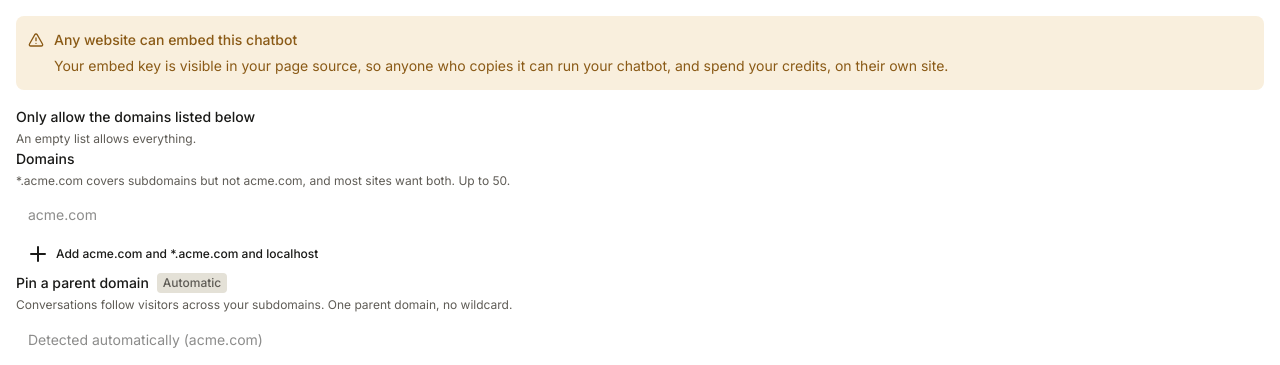
the allow-list › offers the apex and the wildcard together, because www is a subdomain
The image size is (1280, 365).
Step 1. Click the button "Add acme.com and *.acme.com and localhost" → {"x": 172, "y": 254}, box x1=16 y1=240 x2=328 y2=268
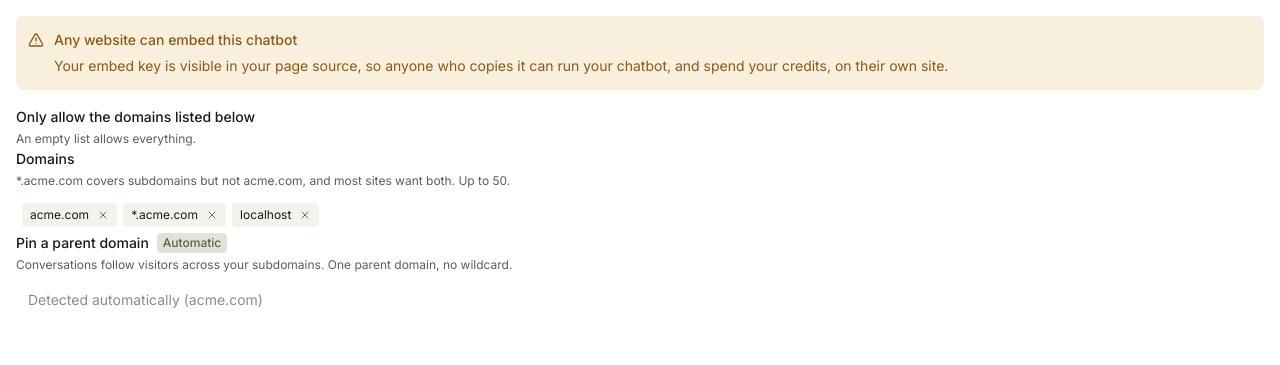
Check: the button named "Remove acme.com" is shown, box x1=93 y1=205 x2=113 y2=225
Check: the button named "Remove *.acme.com" is shown, box x1=202 y1=205 x2=222 y2=225
